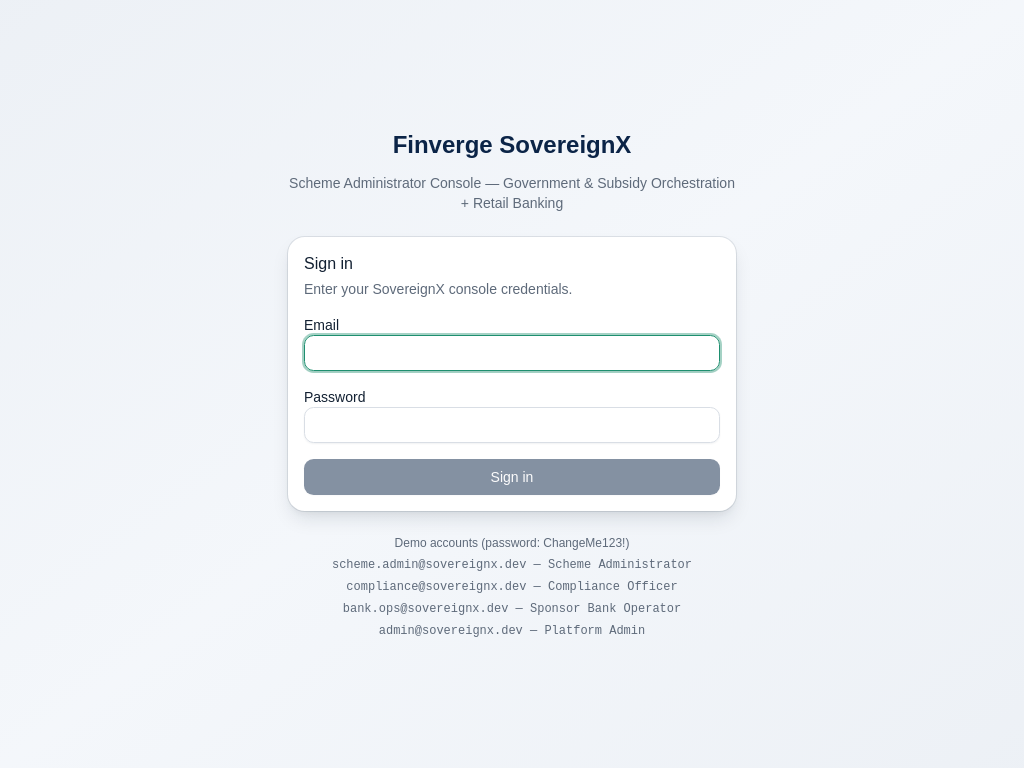
Test case: SovereignX Console › submits credentials and renders the Dashboard shell after a successful login
The image size is (1024, 768).
Step 1. Type "scheme.admin@sovereignx.dev" into the field labelled "Email" → (512, 353), box [304,335,720,371]
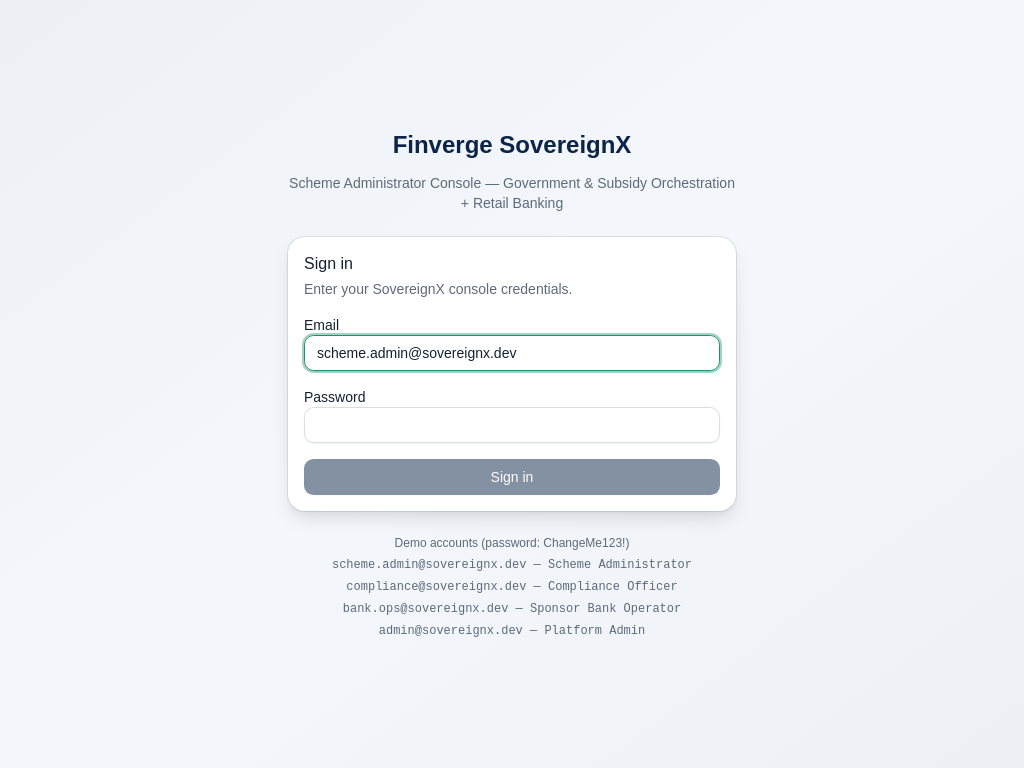
Step 2. Type "ChangeMe123!" into the password field labelled "Password" → (512, 425), box [304,407,720,443]
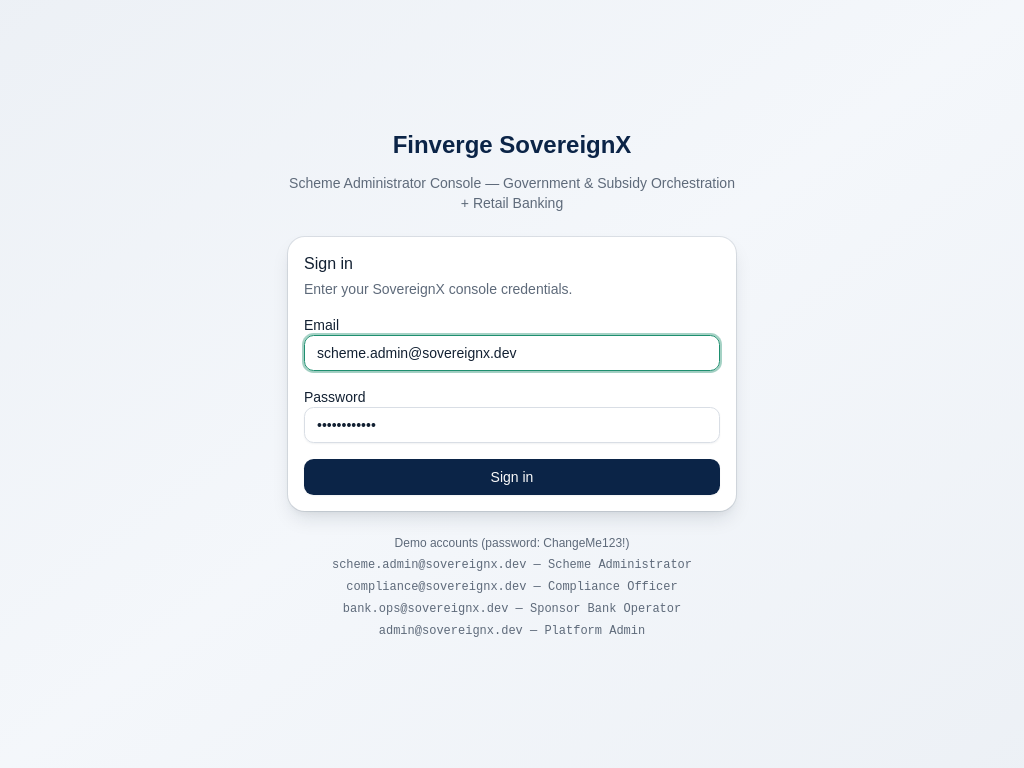
Step 3. Click the button "Sign in" → (512, 477), box [304,459,720,495]
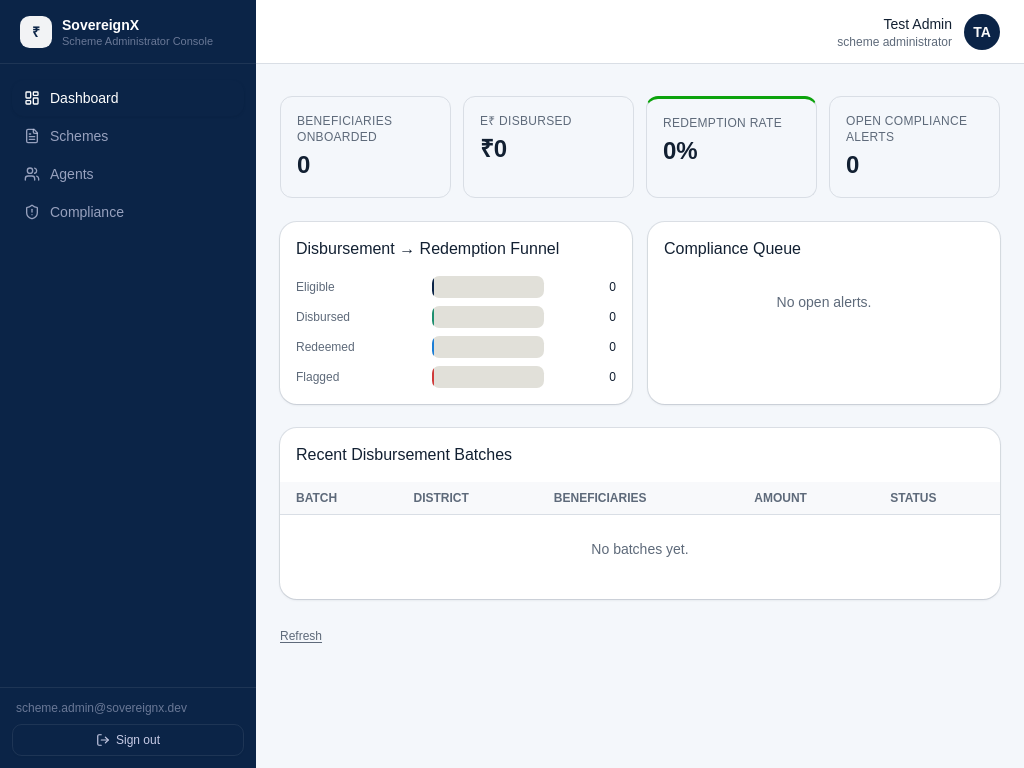
Check: the text "Dashboard" is shown, box [50,90,118,106]
